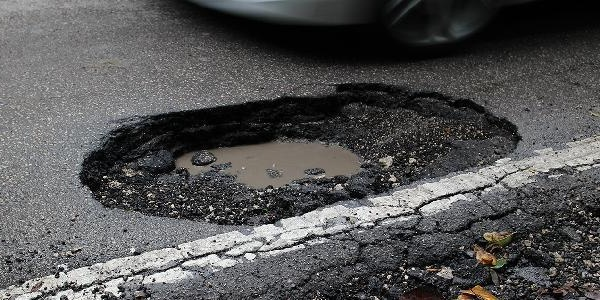pothole: (76, 79, 525, 229)
